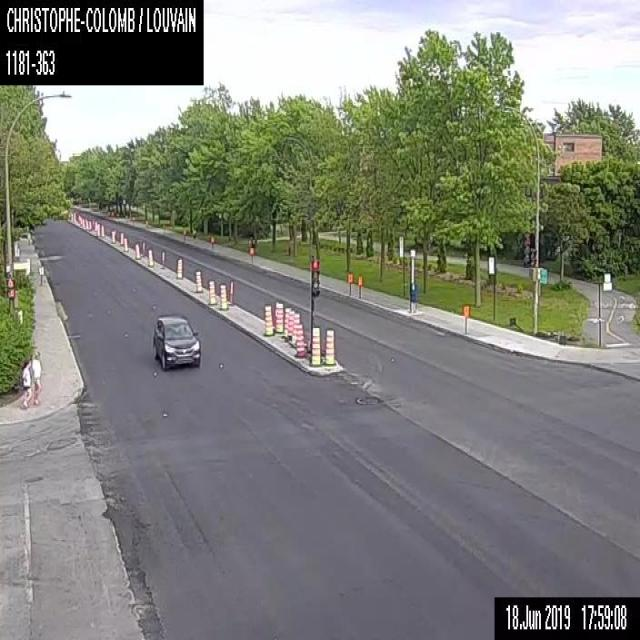construction: (309, 326, 321, 366), (323, 328, 335, 365), (262, 303, 274, 336), (295, 322, 305, 356), (272, 301, 282, 333), (290, 313, 299, 346), (285, 308, 294, 341), (218, 283, 228, 310), (282, 306, 290, 337), (208, 279, 216, 305), (194, 269, 203, 292), (462, 304, 469, 333), (356, 274, 363, 298), (175, 256, 182, 279), (147, 248, 154, 267), (347, 272, 352, 296), (248, 247, 254, 264), (134, 242, 140, 258), (123, 237, 128, 251), (210, 235, 214, 251), (182, 228, 186, 241), (96, 222, 100, 235), (111, 229, 115, 242), (100, 224, 104, 236), (120, 232, 124, 244), (94, 219, 97, 231), (88, 219, 91, 229), (86, 219, 88, 229)
pedestrian: (32, 349, 42, 404), (21, 359, 31, 406)
vehicle: (151, 311, 200, 369)
